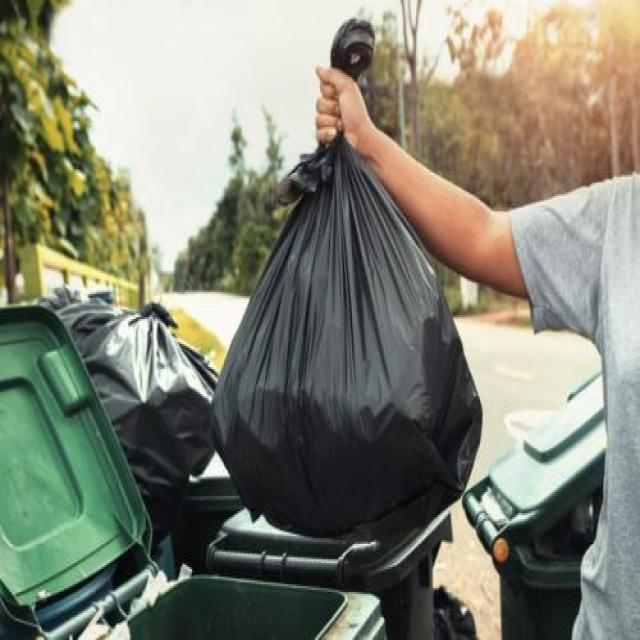sampah-detection: (207, 0, 488, 550), (50, 283, 220, 530)
